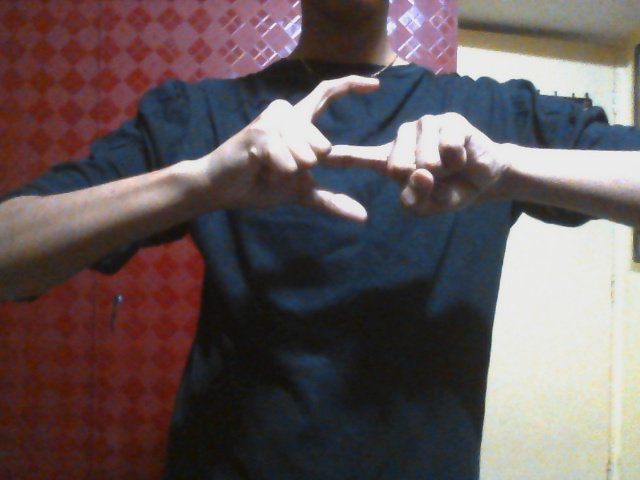E: (226, 73, 494, 241)
